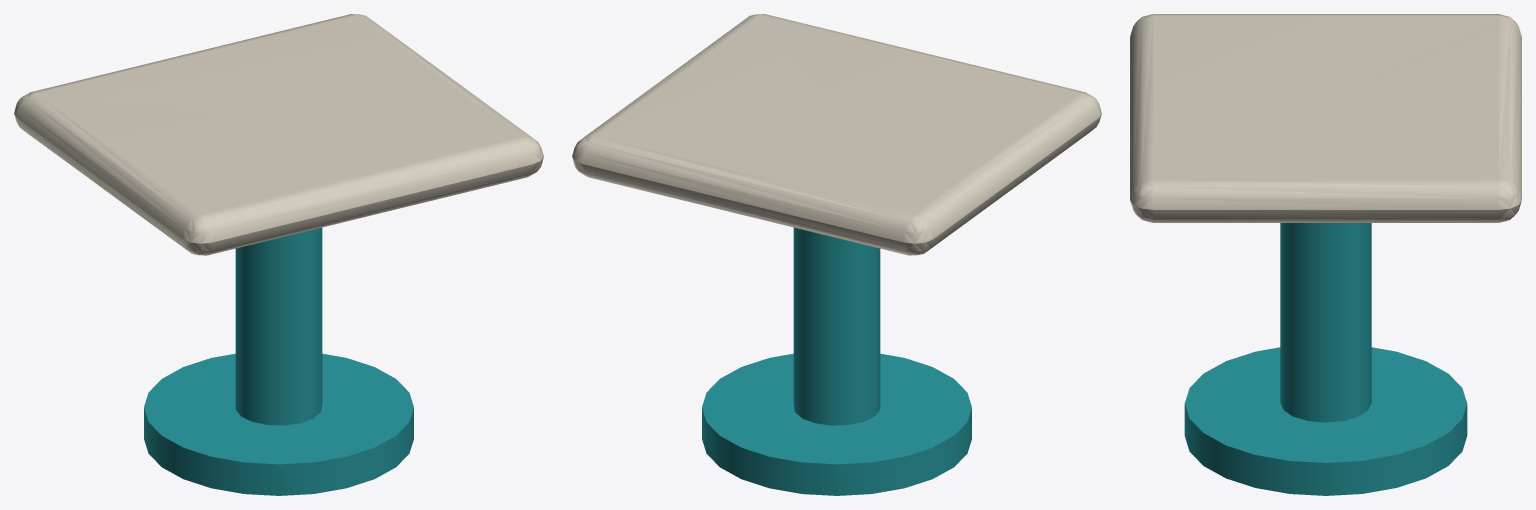
The model's file is 11_standard_table.glb.
The picture shows the model from 3 angles, left to right: view 1: azimuth 30°, elevation 25°; view 2: azimuth 150°, elevation 25°; view 3: azimuth 270°, elevation 25°; orthographic projection. The views are drawn at different scales.
Parts seen in each view (by area): view 1: 11_standard_table__Static; view 2: 11_standard_table__Static; view 3: 11_standard_table__Static.
Boxes of the visible parts, x1,y1,x2,y2 form: 11_standard_table__Static: [14, 14, 543, 495]; 11_standard_table__Static: [572, 14, 1101, 495]; 11_standard_table__Static: [1130, 14, 1521, 495].
Bounding box in the file's own units: 0.95 × 0.82 × 0.86.
